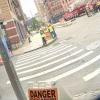crosswalks: (13, 41, 100, 100)
